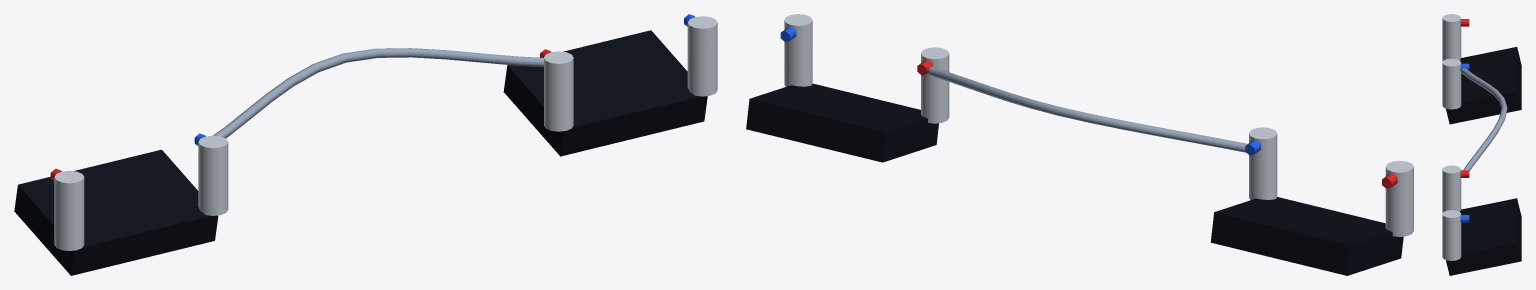
File: transaxle_dual_coolers.glb
The picture shows the model from 3 angles, left to right: view 1: azimuth 30°, elevation 25°; view 2: azimuth 150°, elevation 25°; view 3: azimuth 270°, elevation 25°; orthographic projection. The views are drawn at different scales.
Visible parts, largest first — view 1: Transaxle_Coolers_Scoops_Assembly; view 2: Transaxle_Coolers_Scoops_Assembly; view 3: Transaxle_Coolers_Scoops_Assembly.
Boxes of the visible parts, left/top/right/bottom form: Transaxle_Coolers_Scoops_Assembly: left=14, top=14, right=717, bottom=275; Transaxle_Coolers_Scoops_Assembly: left=746, top=14, right=1413, bottom=275; Transaxle_Coolers_Scoops_Assembly: left=1442, top=14, right=1521, bottom=275.
Bounding box in the file's own units: 0.916 × 0.1508 × 0.1507.
